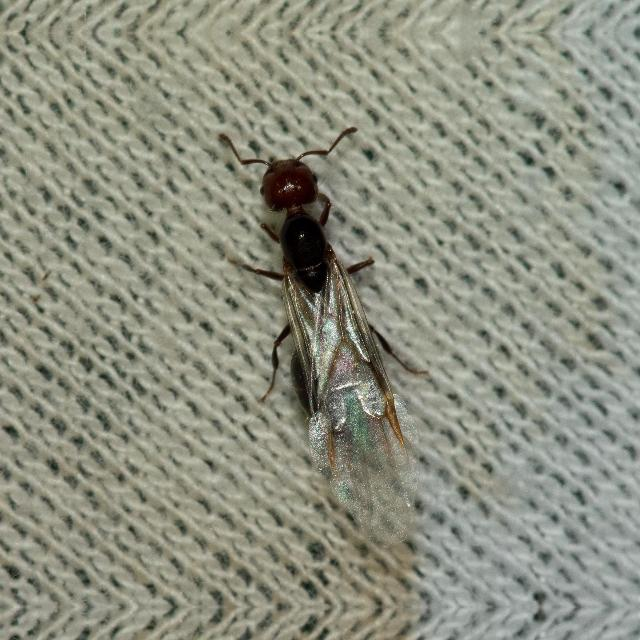Crematogaster: (243, 148, 412, 444)
